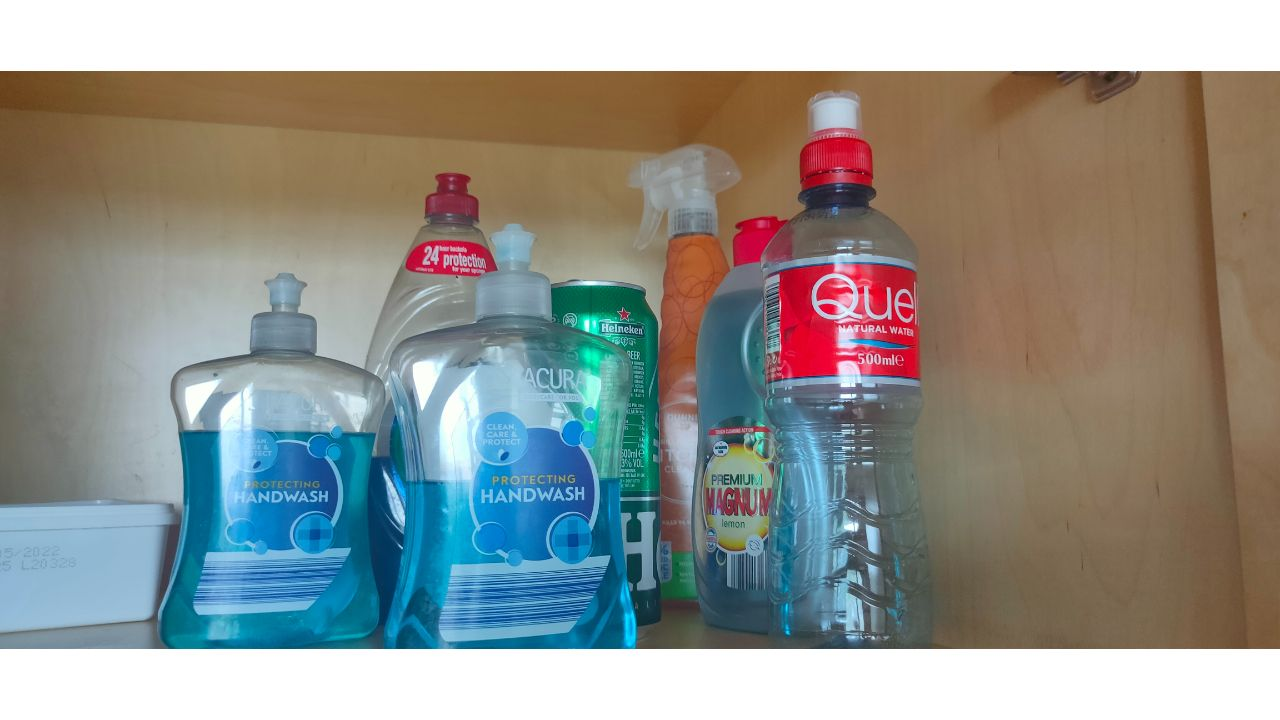Can: (539, 278, 658, 631)
